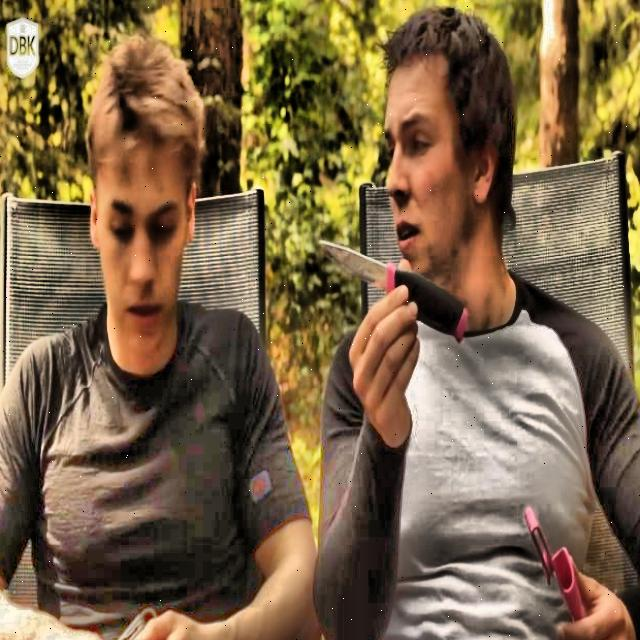knife: (322, 242, 467, 343)
